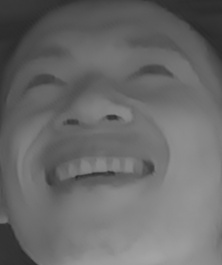eye: (126, 57, 175, 89), (17, 70, 72, 97)
mouth: (33, 141, 155, 199)
